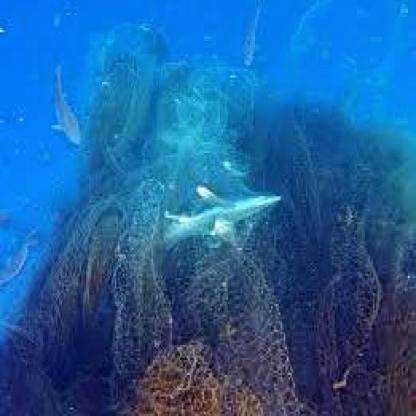net: (57, 226, 416, 416)
